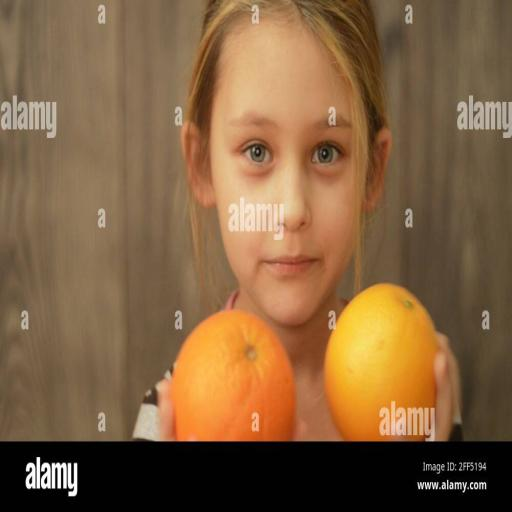orange: (325, 284, 437, 440), (171, 310, 295, 440)
